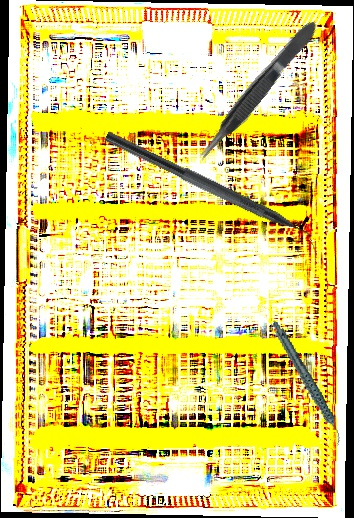Chopper: (97, 130, 327, 258)
Handpiece: (271, 312, 344, 454)
Tissue Forceps: (191, 17, 325, 166)
